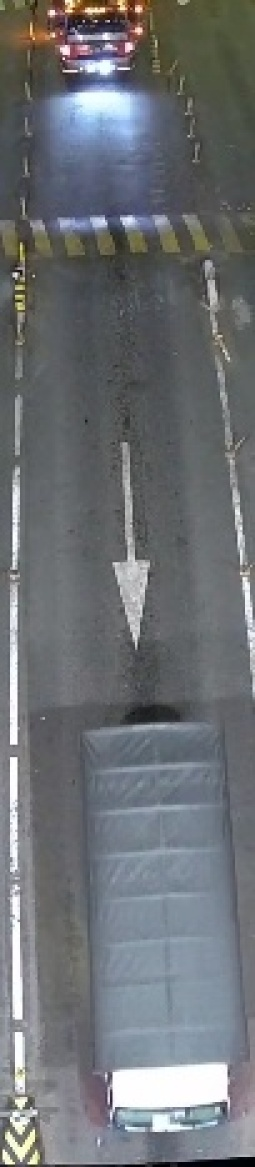truck: (62, 701, 254, 1141)
